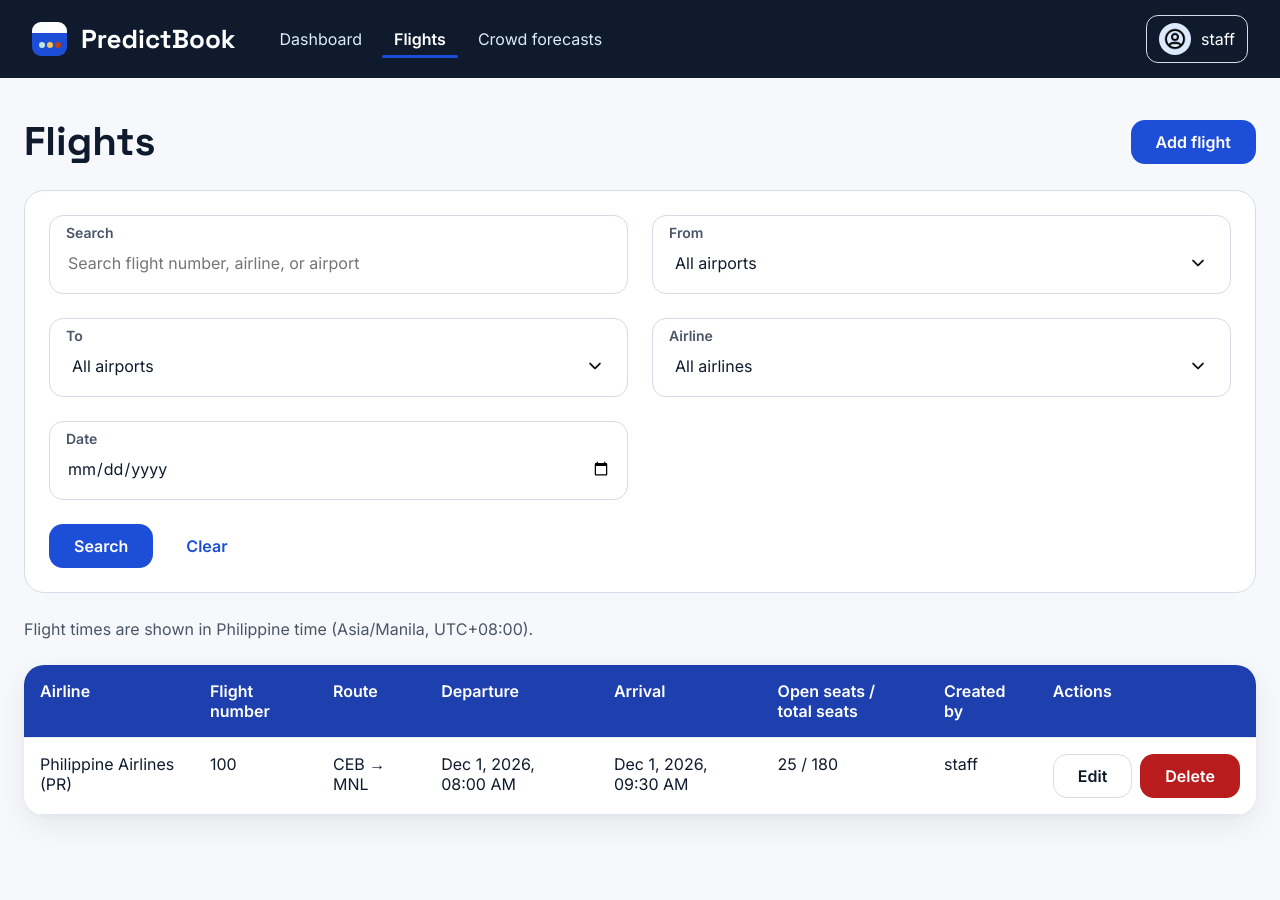
Test case: asks for confirmation and focuses ghost Cancel before any deletion
Click the button "Delete". click: (1190, 776)
box: [1140, 754, 1240, 798]
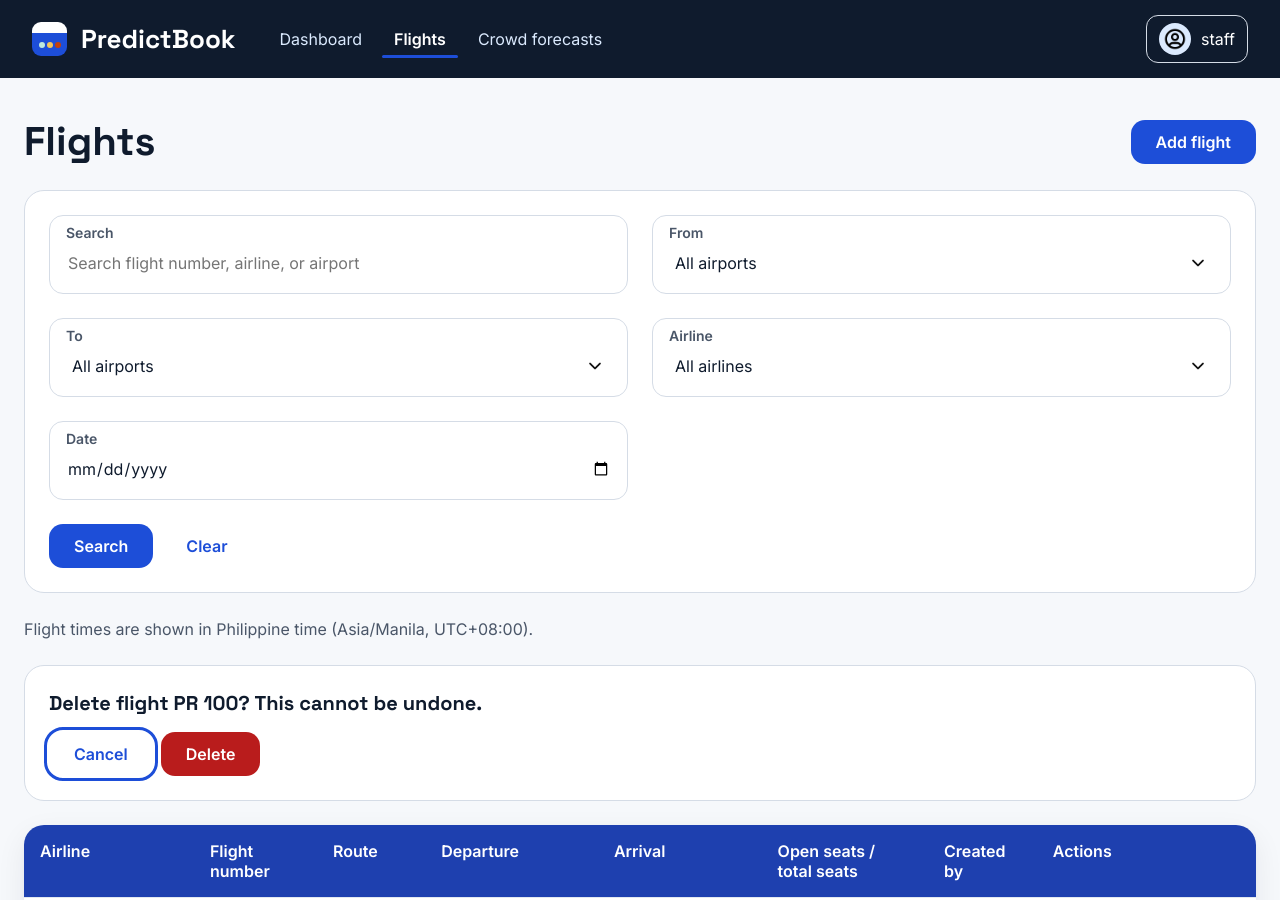
Expected: the dialog shows "Delete flight PR 100? This cannot be undone.", [49, 690, 482, 716]
Expected: the button "Cancel" is shown
Expected: the button with class "record-ghost" reads "Cancel"
Click the button with class "record-ghost" showing "Cancel". click: (101, 754)
box: [49, 732, 153, 776]
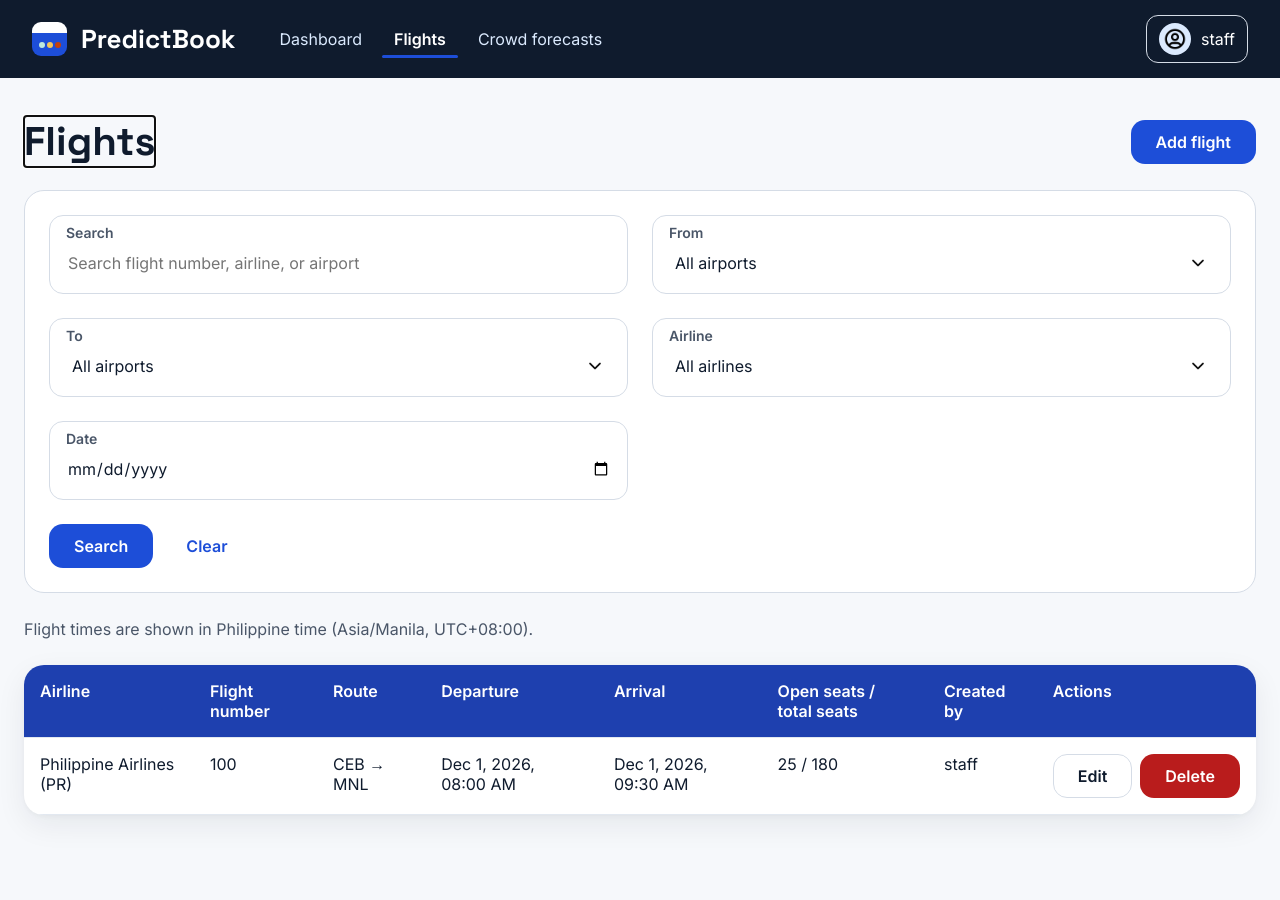
Expected: the table shows "CEB → MNL", [24, 738, 1256, 814]
Expected: the dialog is gone
